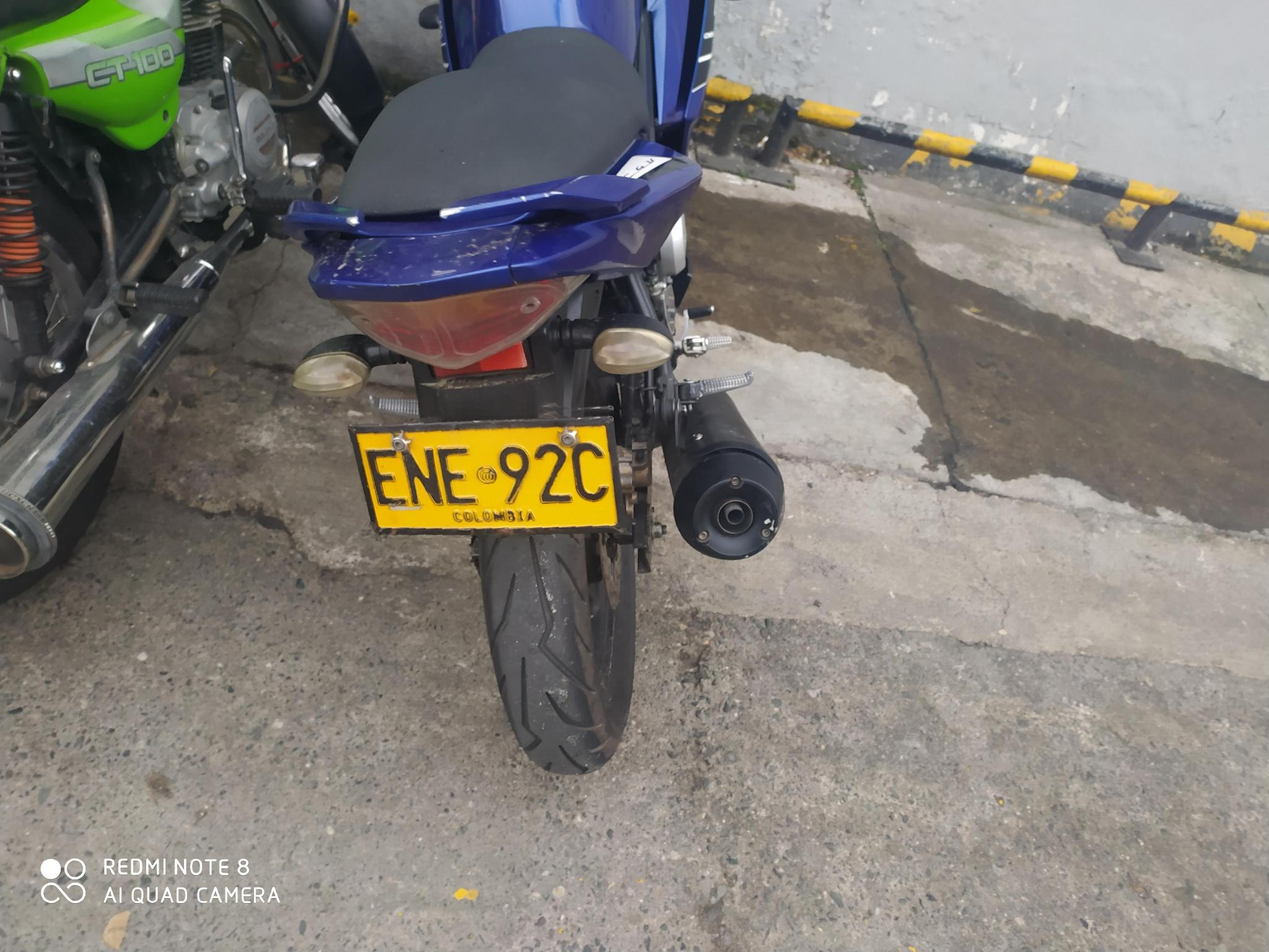placa: (332, 399, 632, 538)
